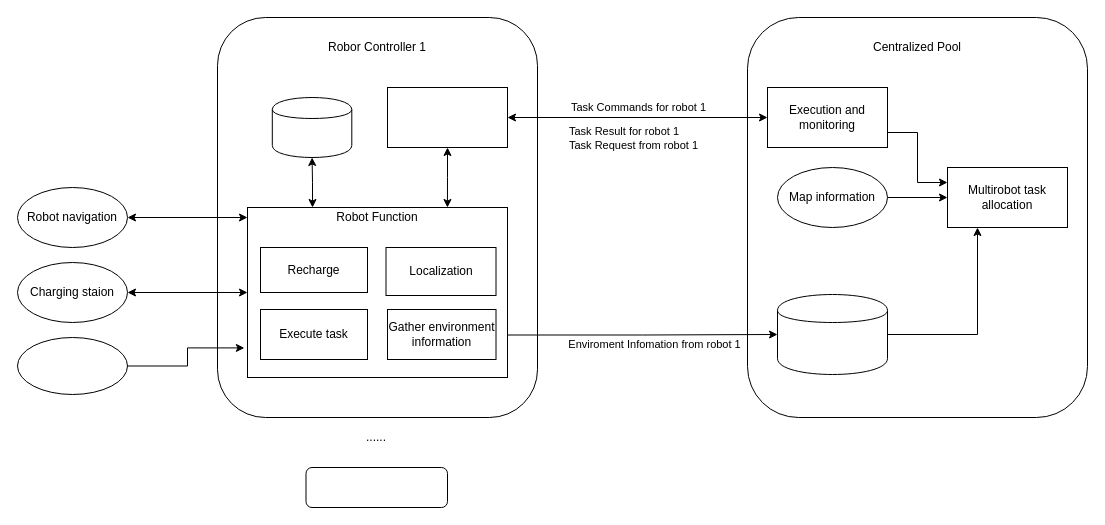
Image size: 1105x525. Some labels were removed from this diagram. The box of each missing label's shape, as (x1, y1, x2, y2) in pixels:
Database: (776, 294, 888, 374)
Execution: (386, 86, 508, 148)
Local task queue: (271, 96, 352, 158)
Robot Controller N: (305, 466, 448, 508)
System environment: (16, 336, 128, 394)
